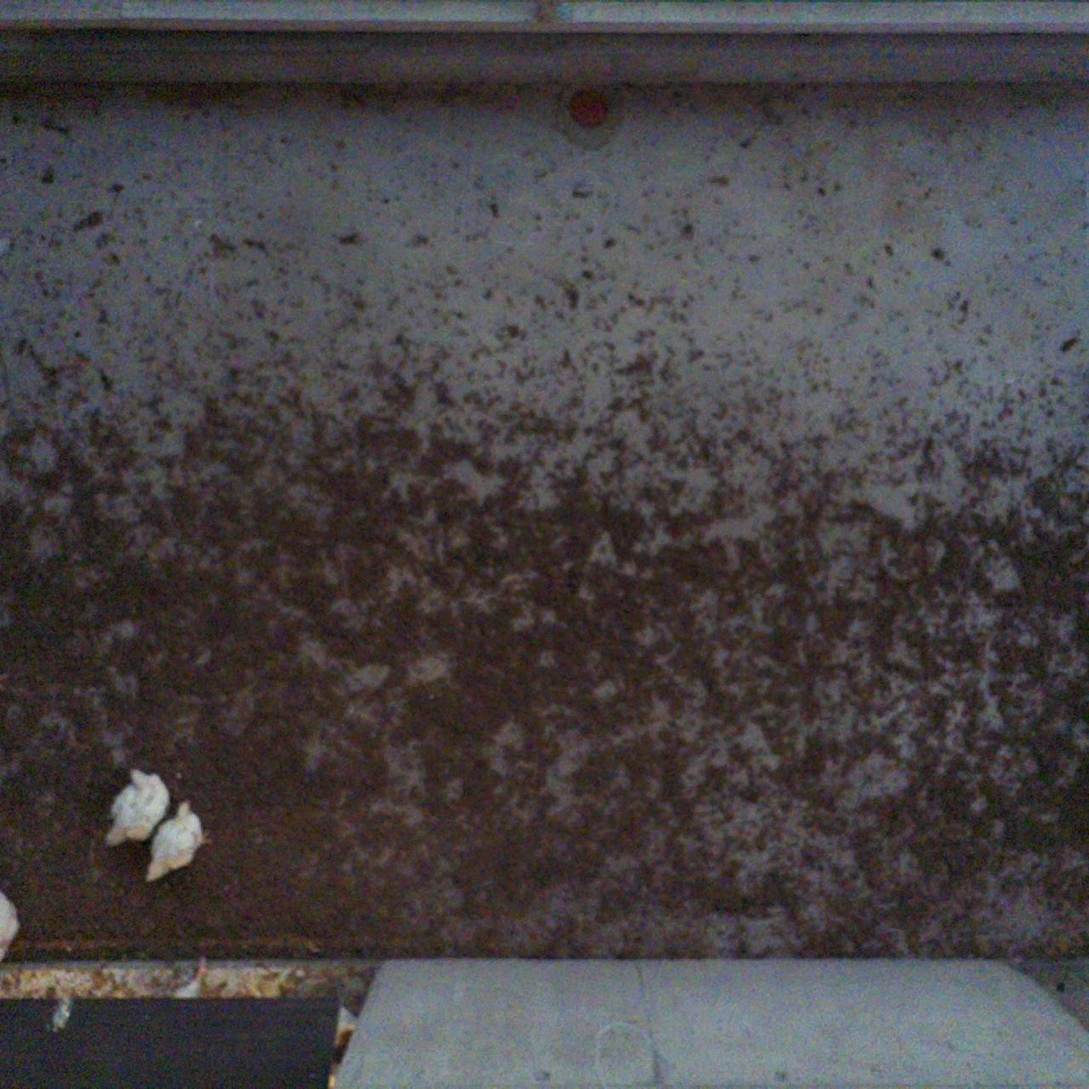chicken: (104, 763, 172, 850), (145, 795, 209, 883), (0, 888, 23, 965)
